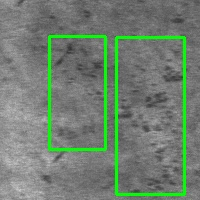rolled-in_scale: (116, 38, 184, 194), (49, 37, 105, 149)
